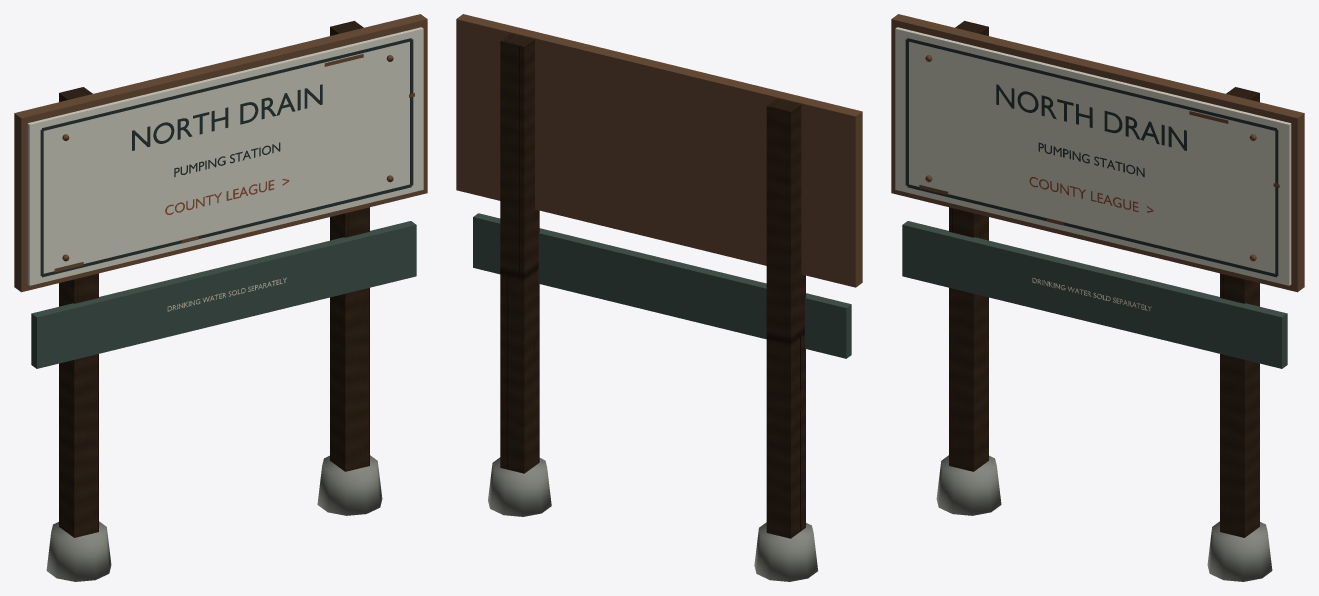
Rendered from waymarker-north-drain.glb.
The picture shows the model from 3 angles, left to right: view 1: azimuth 30°, elevation 25°; view 2: azimuth 150°, elevation 25°; view 3: azimuth 330°, elevation 25°; orthographic projection.
Visible parts, largest first — view 1: Reflective enamel face, Lower regulation plaque, Steel folded sign back, Weathered timber upright, Weathered timber upright.001, Concrete footing.001, Concrete footing, Destination, Printed border.001, Printed border, Printed border.002, Direction (+2 smaller); view 2: Steel folded sign back, Lower regulation plaque, Weathered timber upright, Weathered timber upright.001, Concrete footing.001, Concrete footing; view 3: Reflective enamel face, Lower regulation plaque, Steel folded sign back, Weathered timber upright.001, Weathered timber upright, Concrete footing, Concrete footing.001, Destination, Printed border.001, Printed border, Printed border.002, Printed border.003 (+2 smaller).
Part boxes in pixels (left/top/right/bottom): Reflective enamel face: left=27, top=27, right=423, bottom=285; Lower regulation plaque: left=31, top=221, right=416, bottom=368; Steel folded sign back: left=14, top=14, right=427, bottom=292; Weathered timber upright: left=59, top=87, right=98, bottom=537; Weathered timber upright.001: left=330, top=21, right=369, bottom=471; Concrete footing.001: left=317, top=455, right=382, bottom=515; Concrete footing: left=46, top=521, right=111, bottom=581; Destination: left=132, top=84, right=322, bottom=150; Printed border.001: left=42, top=38, right=411, bottom=131; Printed border: left=42, top=184, right=411, bottom=277; Printed border.002: left=40, top=129, right=43, bottom=275; Direction: left=165, top=179, right=289, bottom=214; Steel folded sign back: left=456, top=14, right=862, bottom=287; Lower regulation plaque: left=473, top=213, right=851, bottom=358; Weathered timber upright: left=766, top=98, right=805, bottom=538; Weathered timber upright.001: left=500, top=33, right=539, bottom=473; Concrete footing.001: left=488, top=457, right=551, bottom=516; Concrete footing: left=754, top=522, right=817, bottom=581; Reflective enamel face: left=895, top=27, right=1291, bottom=285; Lower regulation plaque: left=902, top=221, right=1287, bottom=368; Steel folded sign back: left=891, top=14, right=1304, bottom=292; Weathered timber upright.001: left=1220, top=87, right=1259, bottom=537; Weathered timber upright: left=949, top=21, right=988, bottom=471; Concrete footing: left=936, top=455, right=1001, bottom=515; Concrete footing.001: left=1207, top=521, right=1272, bottom=581; Destination: left=996, top=84, right=1186, bottom=150; Printed border.001: left=907, top=38, right=1276, bottom=131; Printed border: left=907, top=184, right=1276, bottom=277; Printed border.002: left=905, top=39, right=908, bottom=185; Printed border.003: left=1275, top=129, right=1278, bottom=275.
Bounding box in the file's own units: 1.98 × 2.2 × 0.28.
8 materials, 1 textured.
